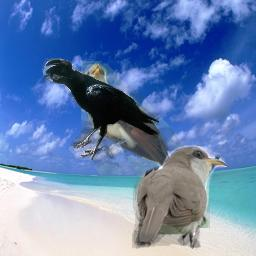Crow: (42, 58, 159, 160)
Cuckoo: (81, 61, 210, 228), (132, 145, 227, 249)
